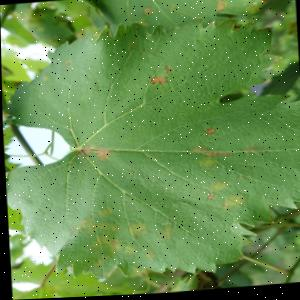Folha: (0, 11, 300, 289)
Fungo: (61, 209, 164, 273), (77, 146, 113, 164), (218, 194, 245, 214), (125, 222, 148, 240), (154, 222, 173, 241), (195, 157, 216, 172), (93, 149, 111, 163), (209, 182, 227, 193), (148, 77, 166, 87), (242, 147, 260, 156), (189, 146, 207, 155), (198, 129, 215, 138), (161, 67, 171, 75), (203, 194, 213, 202)
